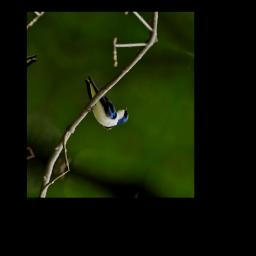Swallow: (70, 74, 139, 137)
